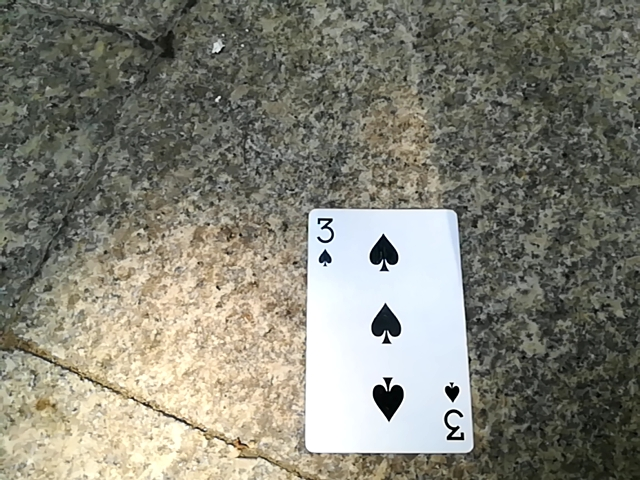ht 3: (309, 200, 476, 454)
